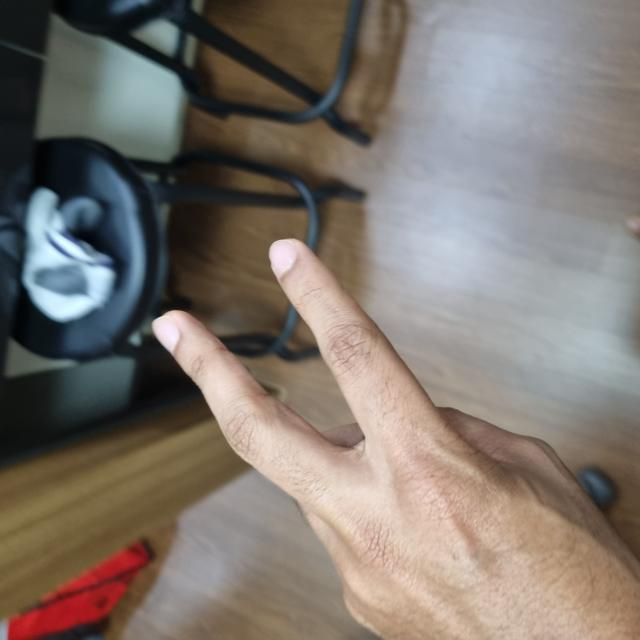Scissors: (0, 161, 398, 637)
